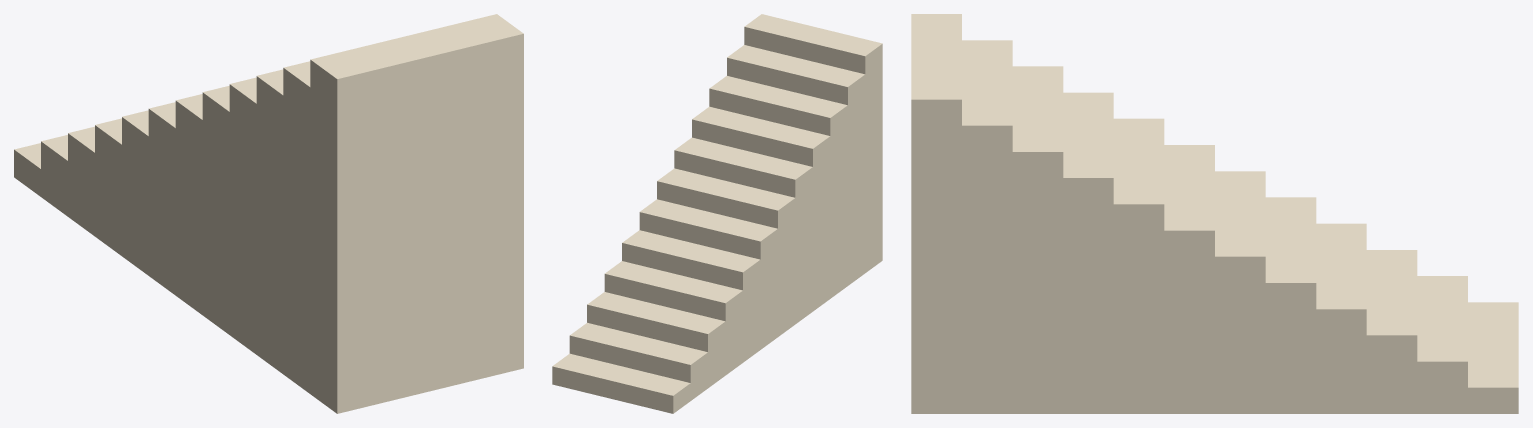
File: town_stairs.glb
3 views of the same model, side by side, from view 1: azimuth 30°, elevation 25°; view 2: azimuth 150°, elevation 25°; view 3: azimuth 270°, elevation 25° (orthographic). The views are drawn at different scales.
Parts seen in each view (by area): view 1: beach_town_stairs; view 2: beach_town_stairs; view 3: beach_town_stairs.
Part boxes in pixels (left/top/right/bottom): beach_town_stairs: left=14, top=14, right=523, bottom=413; beach_town_stairs: left=552, top=14, right=882, bottom=413; beach_town_stairs: left=911, top=14, right=1518, bottom=413.
Size of the model in its own units: 1.4 by 2.4 by 4.2.
1 material, 1 textured.
